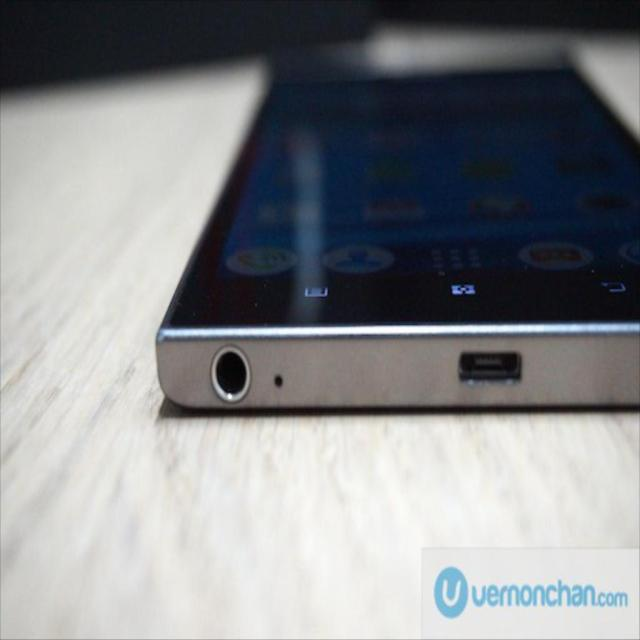Mobile-phone: (138, 56, 614, 411)
